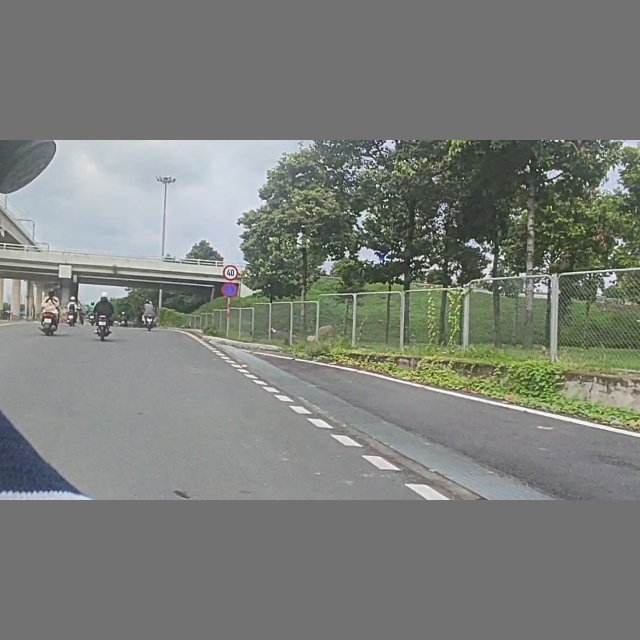P.127*40: (223, 265, 239, 280)
P.130: (220, 282, 239, 299)
